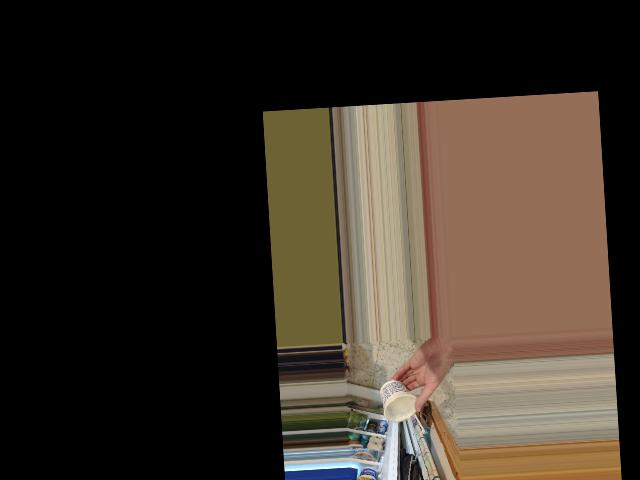cotage: (382, 378, 417, 422)
